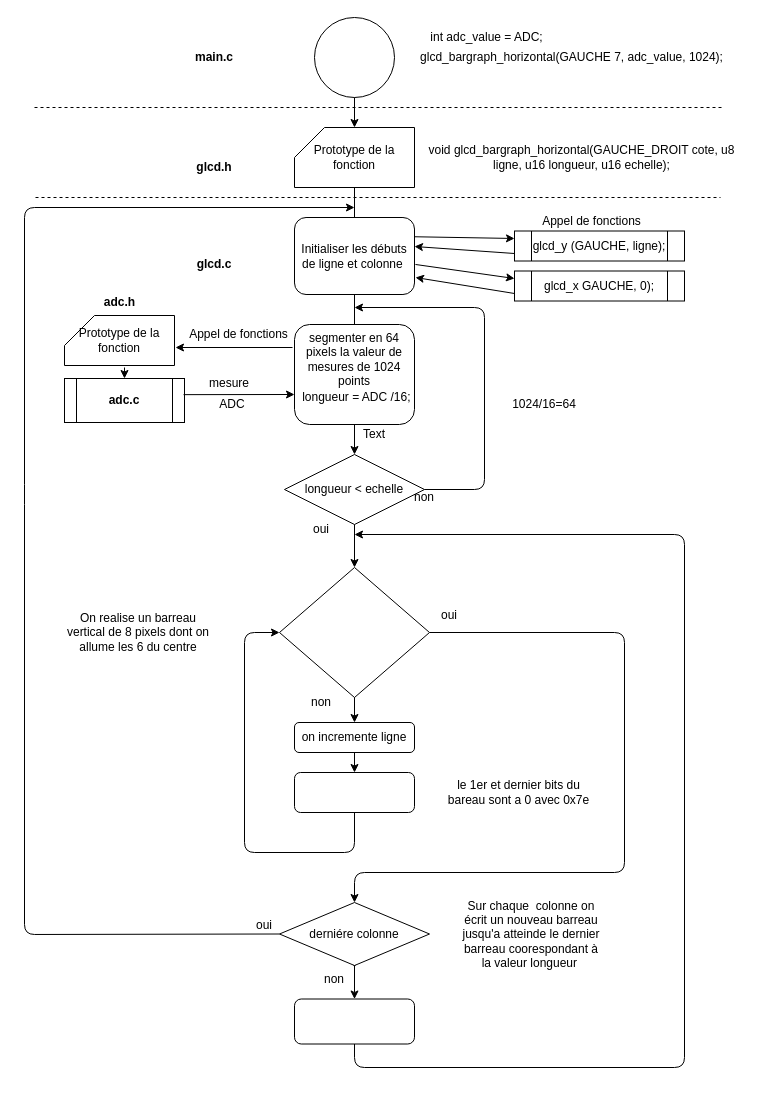
This 757x1093 diagram has some shape labels left out. Each missing label, with the centre of its shape:
"APPEL DE LA FONCTION" goes at point (354, 57).
"ligne 8 atteinte" goes at point (354, 632).
"on incremente colonne" goes at point (354, 1021).
"On met 0x7e dans DATAW" goes at point (354, 792).
